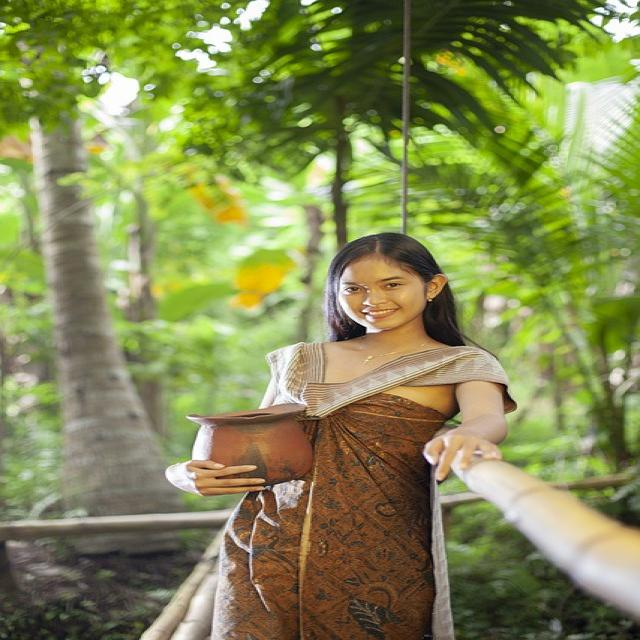Real human 2: (146, 217, 543, 640)
